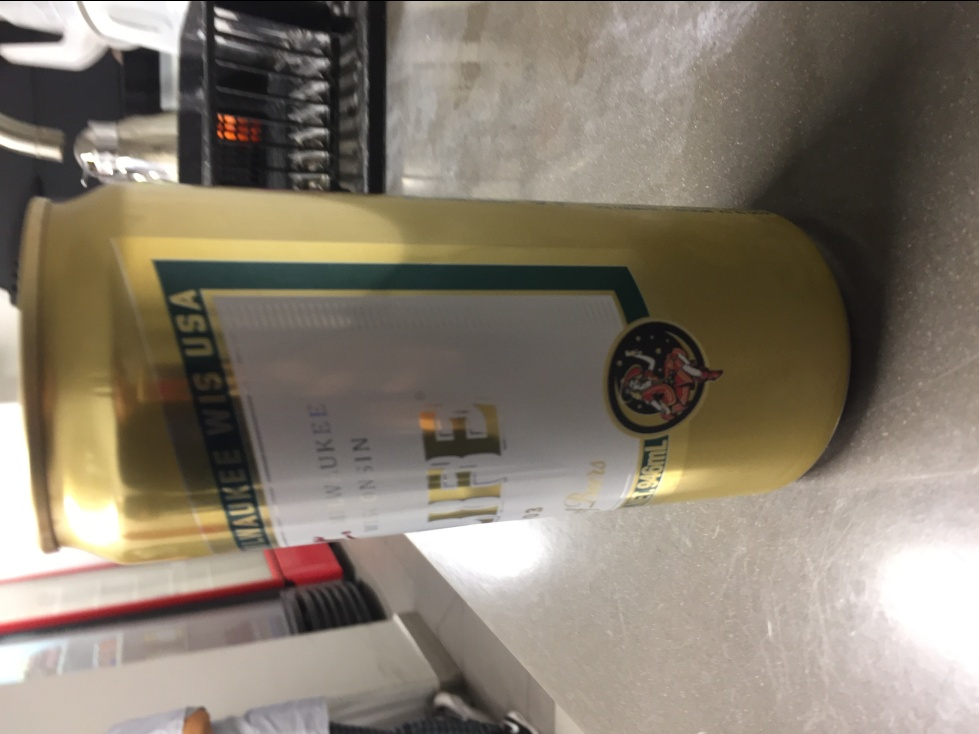miller: (17, 183, 852, 570)
